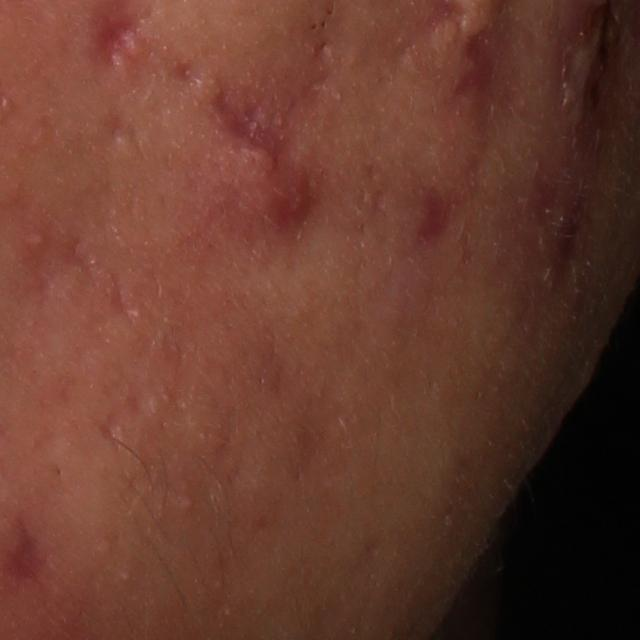atrophic_scar: (202, 26, 342, 171), (17, 219, 136, 333), (272, 160, 351, 230), (1, 510, 61, 584), (406, 183, 468, 244), (94, 407, 124, 454)
